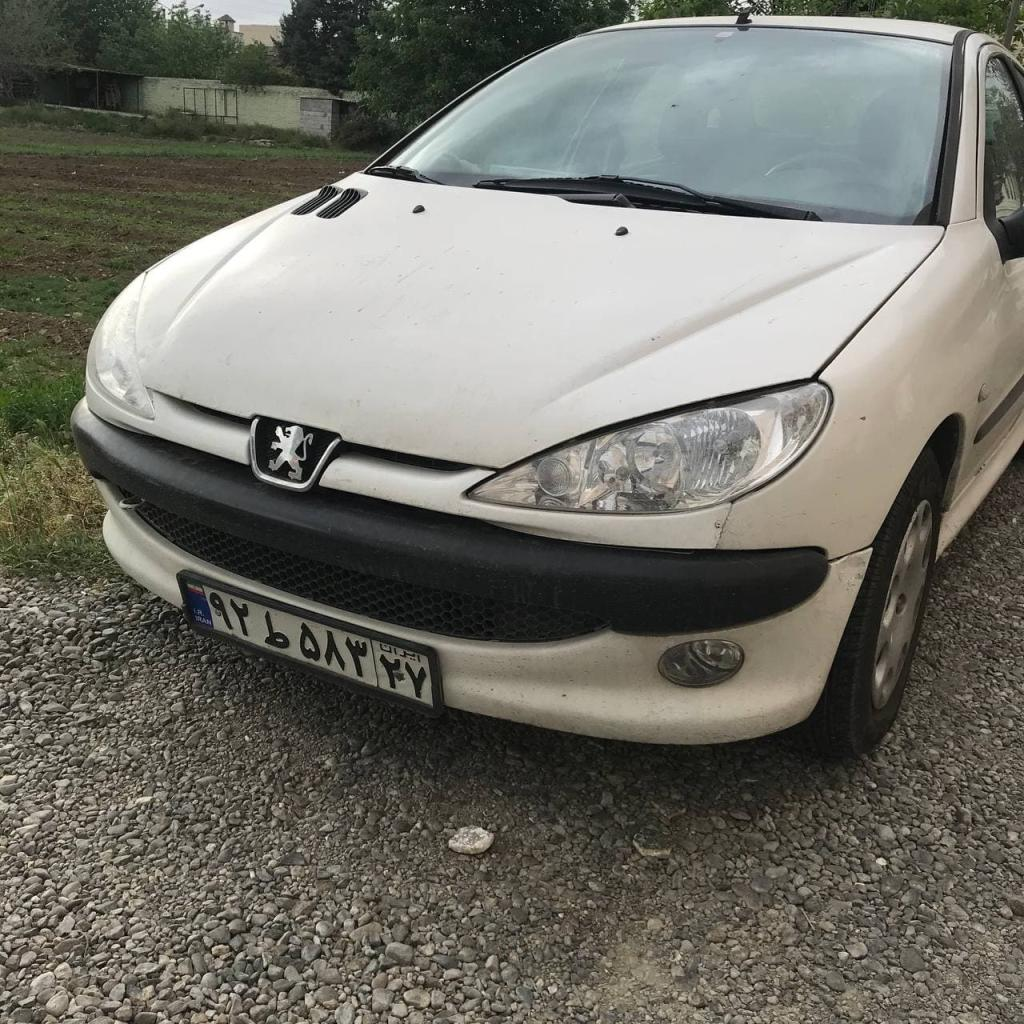Plates: (179, 577, 434, 708)
